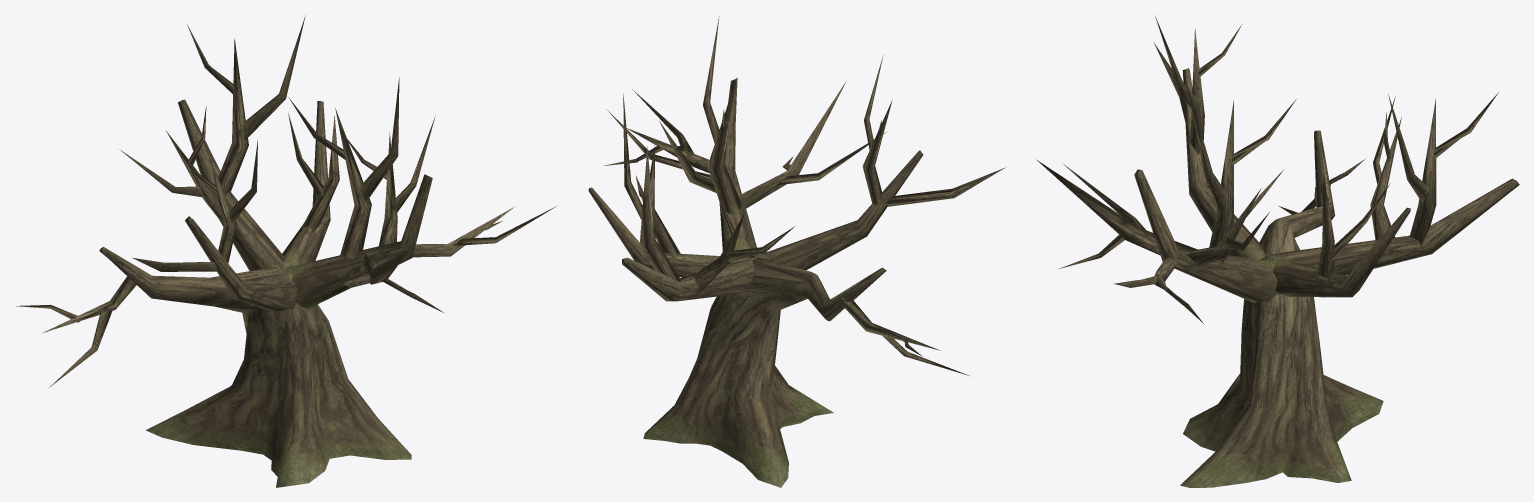
Rendered from obj_macoprtr20.glb.
3 renders of one model, left to right at view 1: azimuth 30°, elevation 25°; view 2: azimuth 150°, elevation 25°; view 3: azimuth 270°, elevation 25°, orthographic. The views are drawn at different scales.
Visible parts, largest first — view 1: part_0; view 2: part_0; view 3: part_0.
Boxes of the visible parts, bbox=[...] form: part_0: bbox=[16, 15, 556, 487]; part_0: bbox=[588, 16, 1005, 487]; part_0: bbox=[1036, 16, 1519, 487].
Bounding box in the file's own units: 15.67 × 13.32 × 14.54.
Materials: 1 (1 with a texture image).
